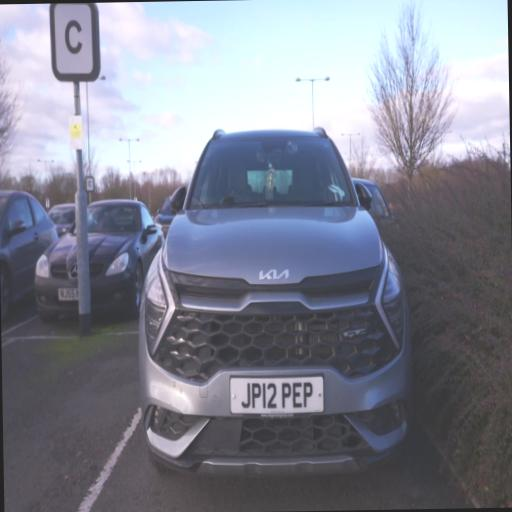numberplates: (230, 377, 324, 415), (59, 288, 78, 300)
